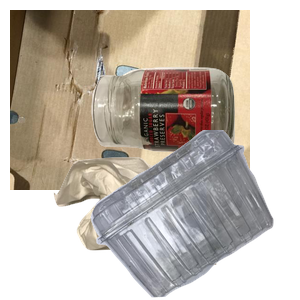cardboard: (10, 10, 250, 190)
glass: (89, 65, 300, 212)
plastic: (88, 130, 300, 300)
trash: (51, 155, 261, 300)
